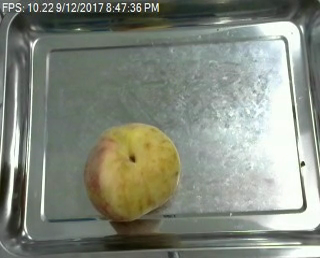Peach: (83, 121, 180, 223)
